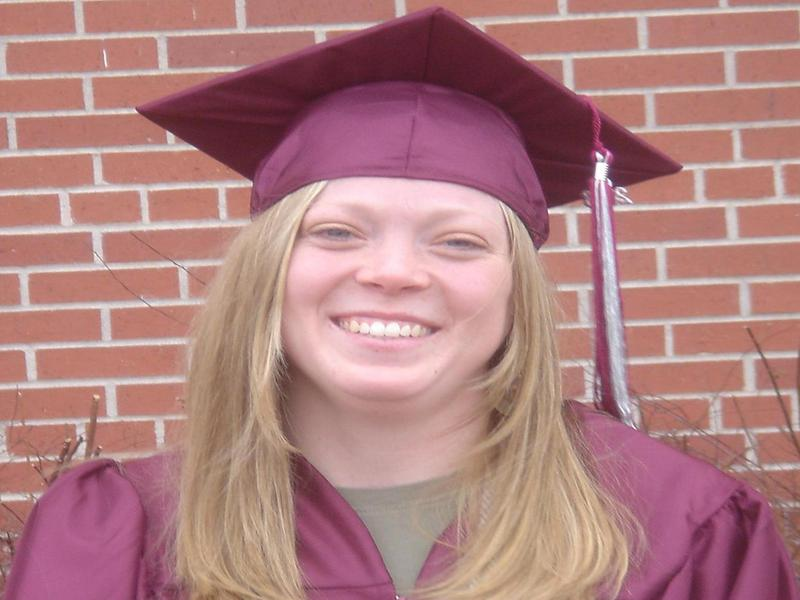person: (10, 8, 795, 600)
